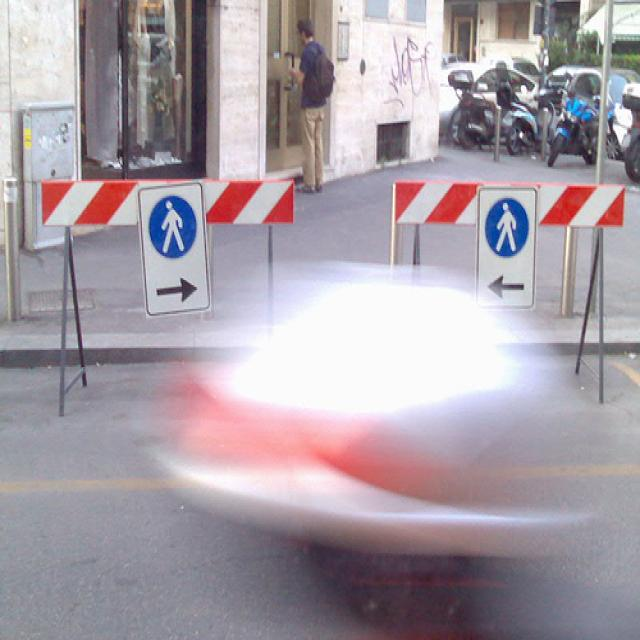motor: (449, 72, 540, 156), (545, 70, 600, 169), (621, 83, 639, 184)
